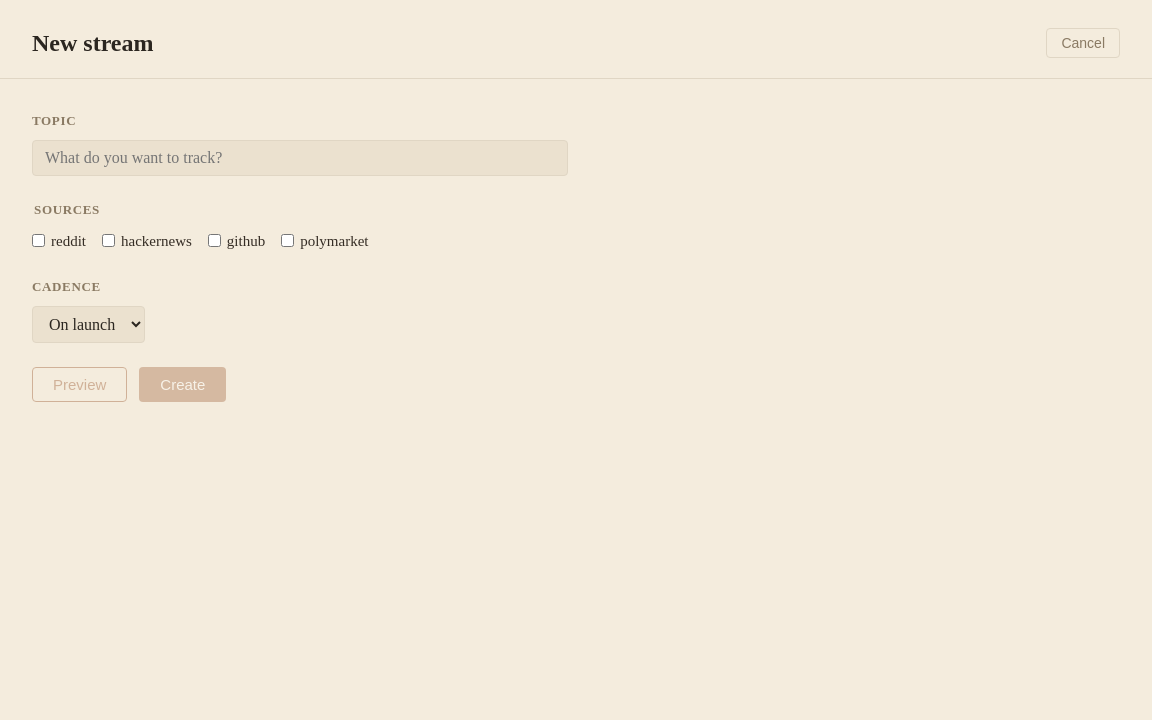
type topic, check hackernews, click Preview → preview area shows draft text
In the field labelled "Topic": x=300, y=158 [32,140,568,176], type "quantum computing"
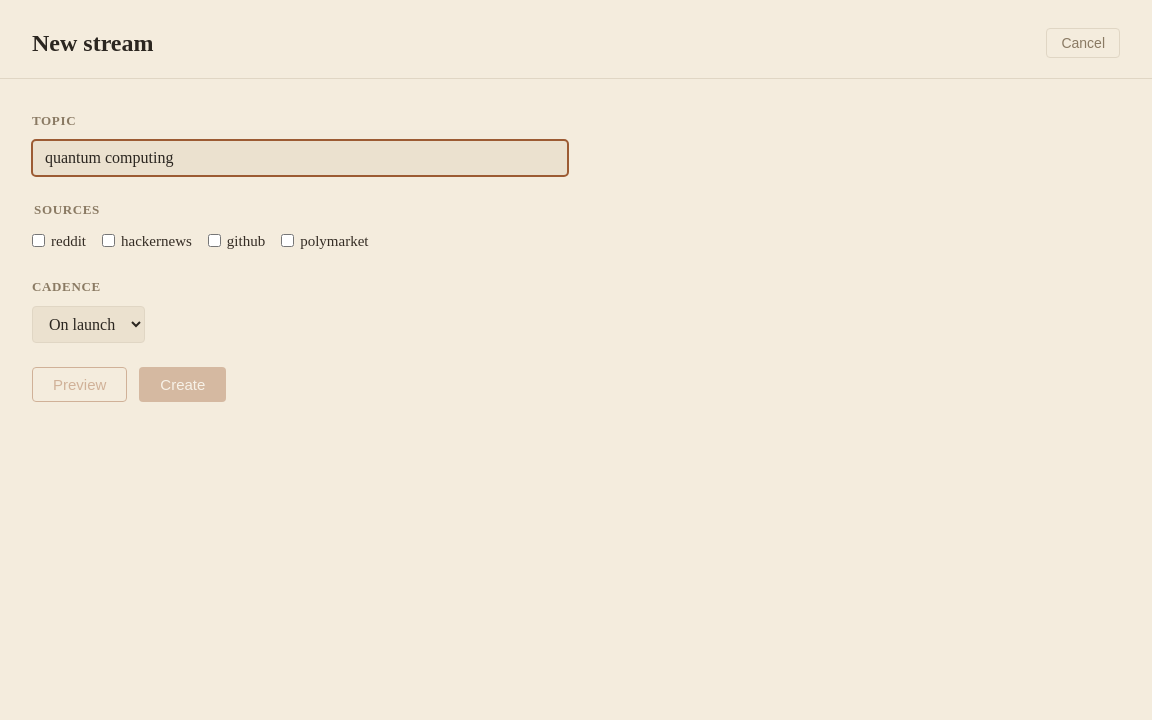
Click the checkbox labelled "hackernews": x=108, y=241 [102,234,115,248]
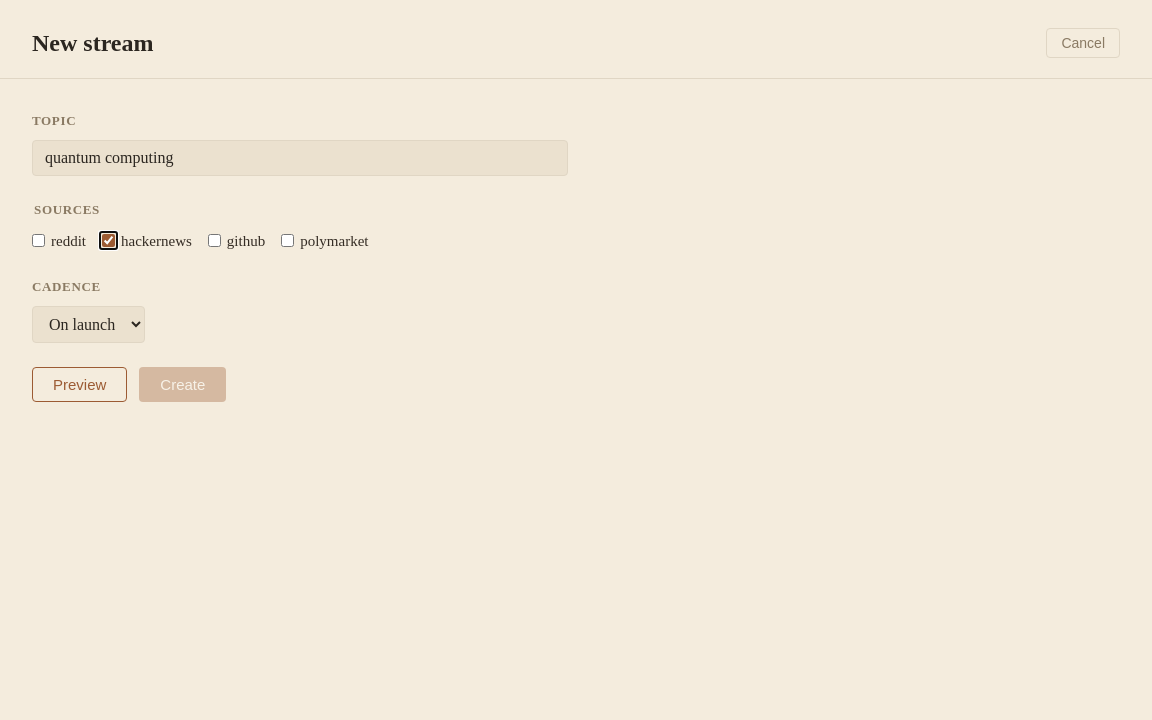
Click the button "Preview": x=80, y=384 [32,367,127,402]
(page scrolled)
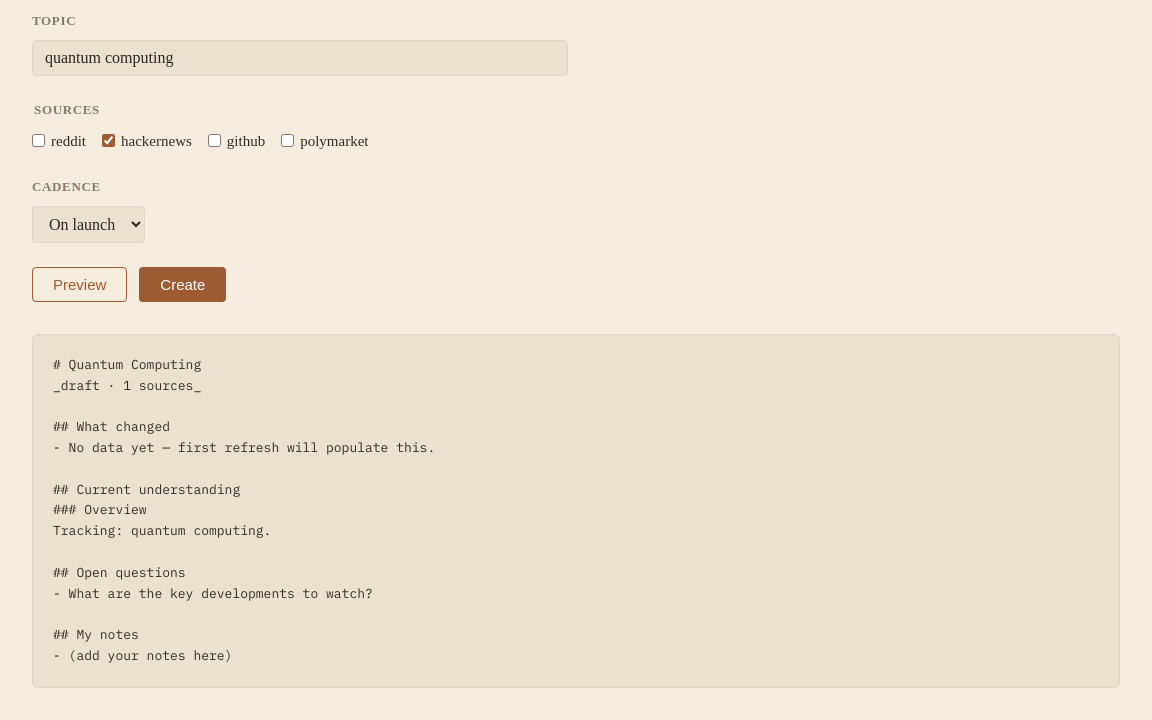
Result: the element named "preview" is shown at [32,334,1120,688]
Result: the element named "preview" shows "Quantum Computing" at [53,356,435,664]
